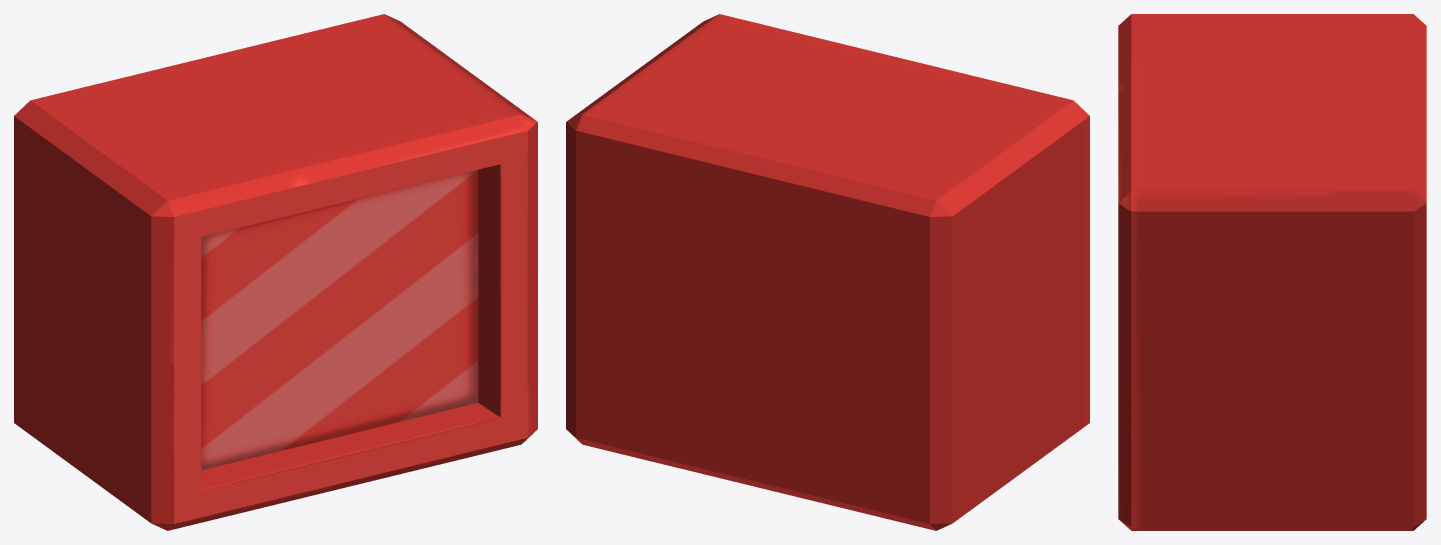
The model's file is 61_ELM_RedTriggerSquareGlass.fbx.
3 views of the same model, side by side, from view 1: azimuth 30°, elevation 25°; view 2: azimuth 150°, elevation 25°; view 3: azimuth 270°, elevation 25° (orthographic). The views are drawn at different scales.
Visible parts, largest first — view 1: Red_trigger_SquareGlass; view 2: Red_trigger_SquareGlass; view 3: Red_trigger_SquareGlass.
Part boxes in pixels (x1,y1,x2,y2): Red_trigger_SquareGlass: (14, 14, 537, 530); Red_trigger_SquareGlass: (566, 14, 1089, 530); Red_trigger_SquareGlass: (1118, 14, 1426, 530).
Size of the model in its own units: 2.11 by 1.72 by 1.42.
Materials: 1 (1 with a texture image).
